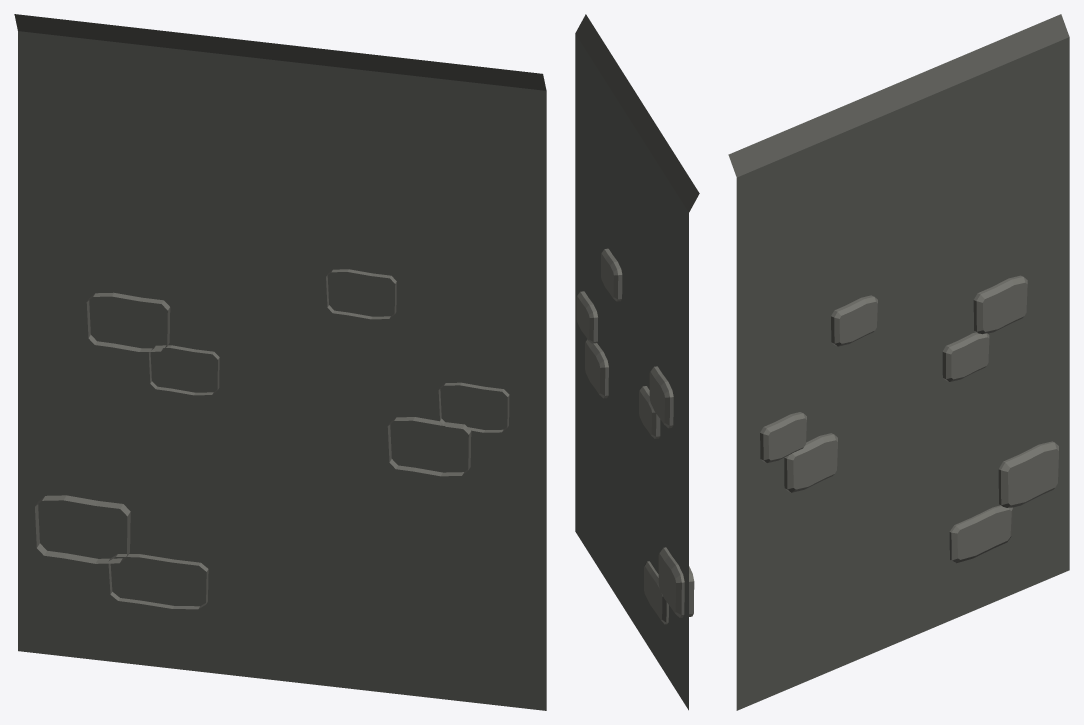
The model's file is Dungeon_Wall_Var1.002.glb.
The picture shows the model from 3 angles, left to right: view 1: azimuth 30°, elevation 25°; view 2: azimuth 150°, elevation 25°; view 3: azimuth 270°, elevation 25°; orthographic projection. The views are drawn at different scales.
Parts seen in each view (by area): view 1: Dungeon_Wall_Var1.005; view 2: Dungeon_Wall_Var1.005; view 3: Dungeon_Wall_Var1.005.
Boxes of the visible parts, x1,y1,x2,y2 form: Dungeon_Wall_Var1.005: (14,14,546,710); Dungeon_Wall_Var1.005: (575,14,699,710); Dungeon_Wall_Var1.005: (728,14,1069,710).
Bounding box in the file's own units: 2.9 × 5.18 × 2.9.
1 material, 1 textured.
